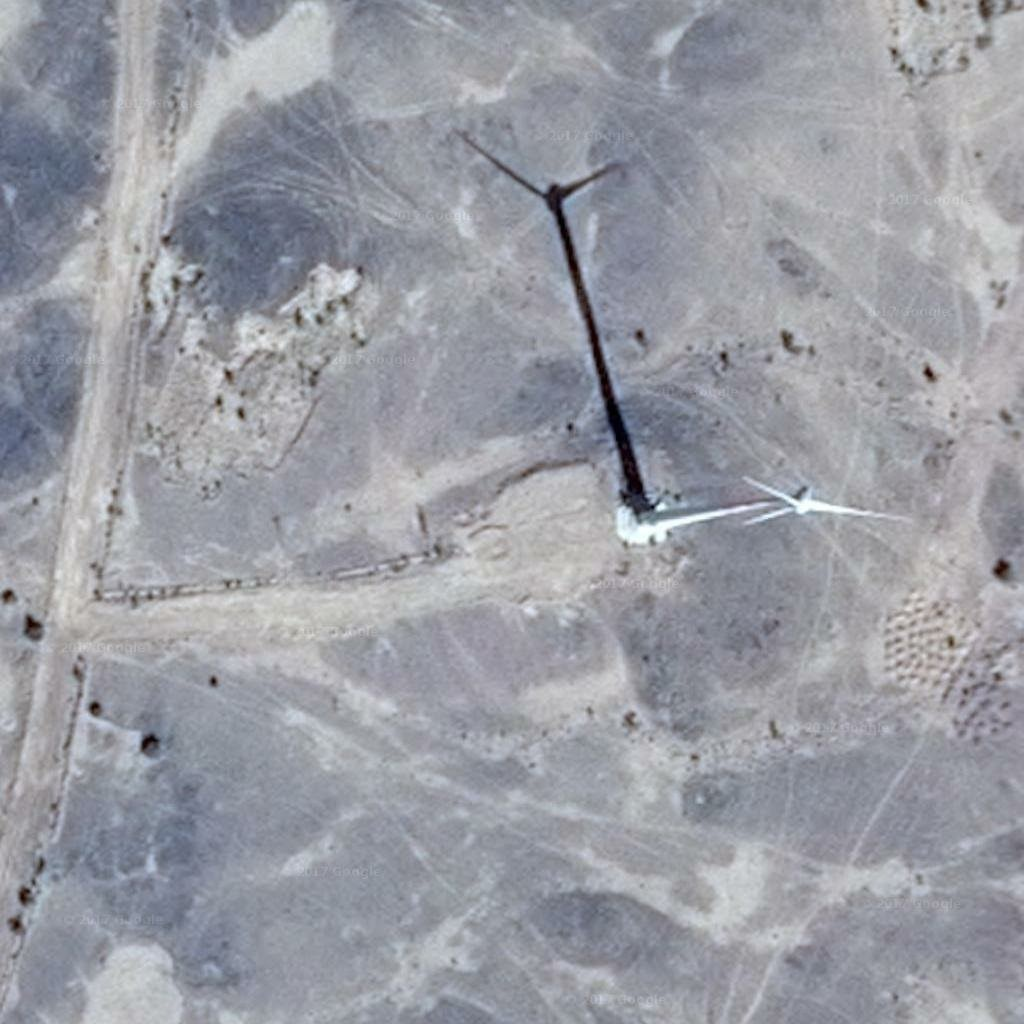Windmill: (454, 120, 672, 507)
